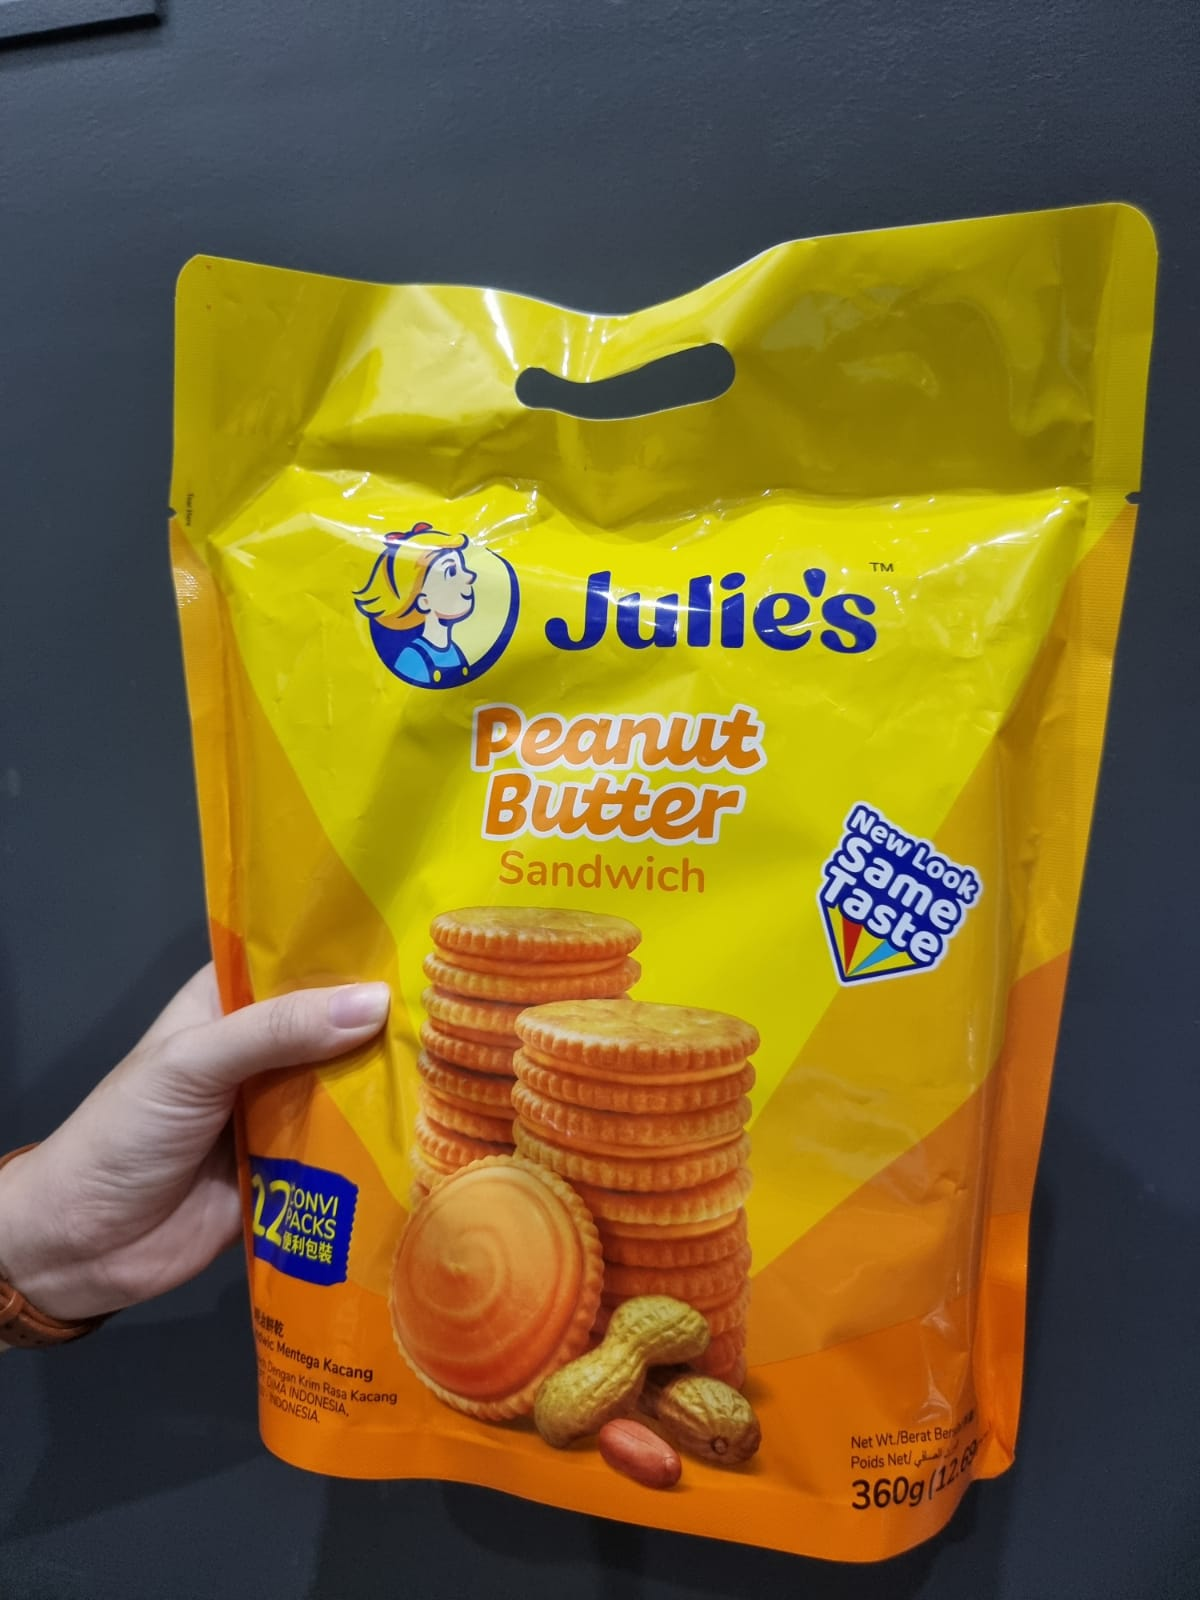Biscuits: (246, 499, 1020, 1511)
